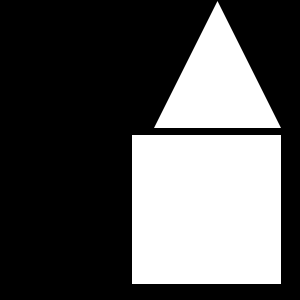circle: (132, 135, 281, 284), (149, 169, 182, 202)
triangle: (154, 1, 281, 128)
